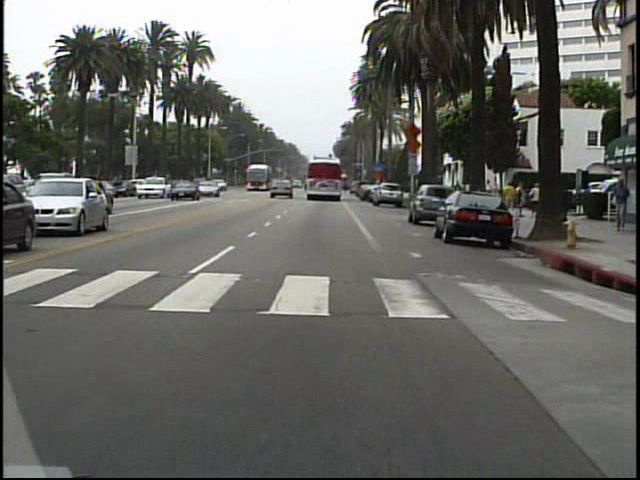person: (605, 174, 631, 237)
